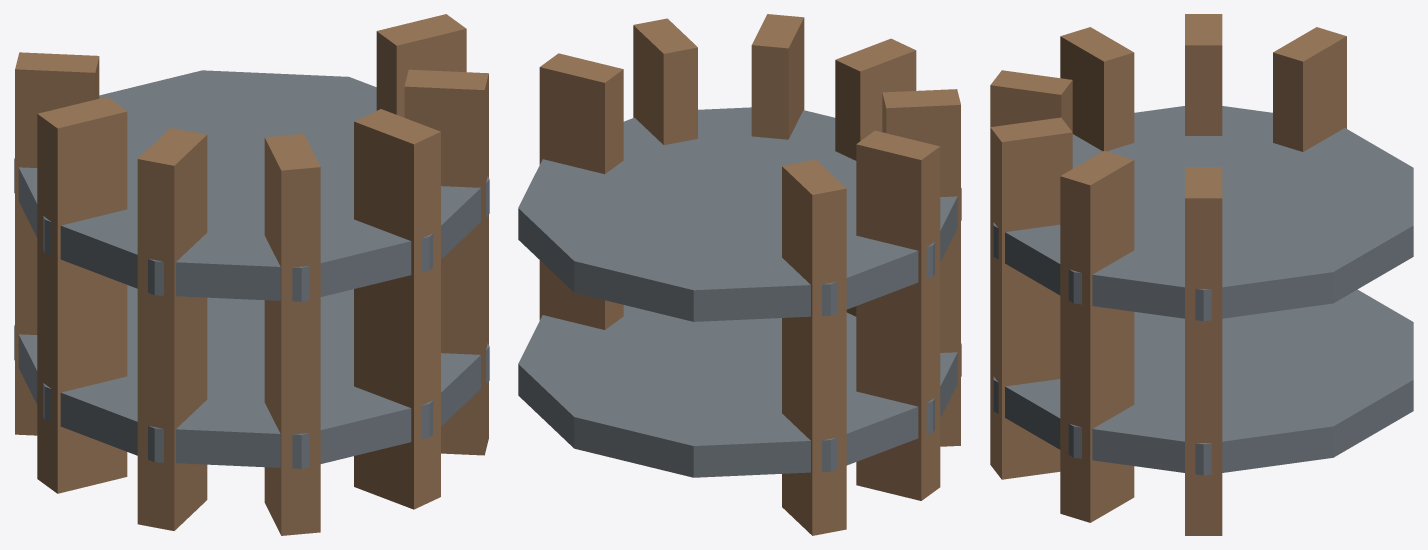
The model's file is barrel_broken.glb.
3 views of the same model, side by side, from view 1: azimuth 30°, elevation 25°; view 2: azimuth 150°, elevation 25°; view 3: azimuth 270°, elevation 25° (orthographic). The views are drawn at different scales.
Visible parts, largest first — view 1: barrel_broken; view 2: barrel_broken; view 3: barrel_broken.
Part boxes in pixels (x1,y1,x2,y2): barrel_broken: [14, 14, 489, 535]; barrel_broken: [518, 14, 961, 535]; barrel_broken: [990, 14, 1413, 535].
Bounding box in the file's own units: 0.83 × 0.7 × 0.7954.
